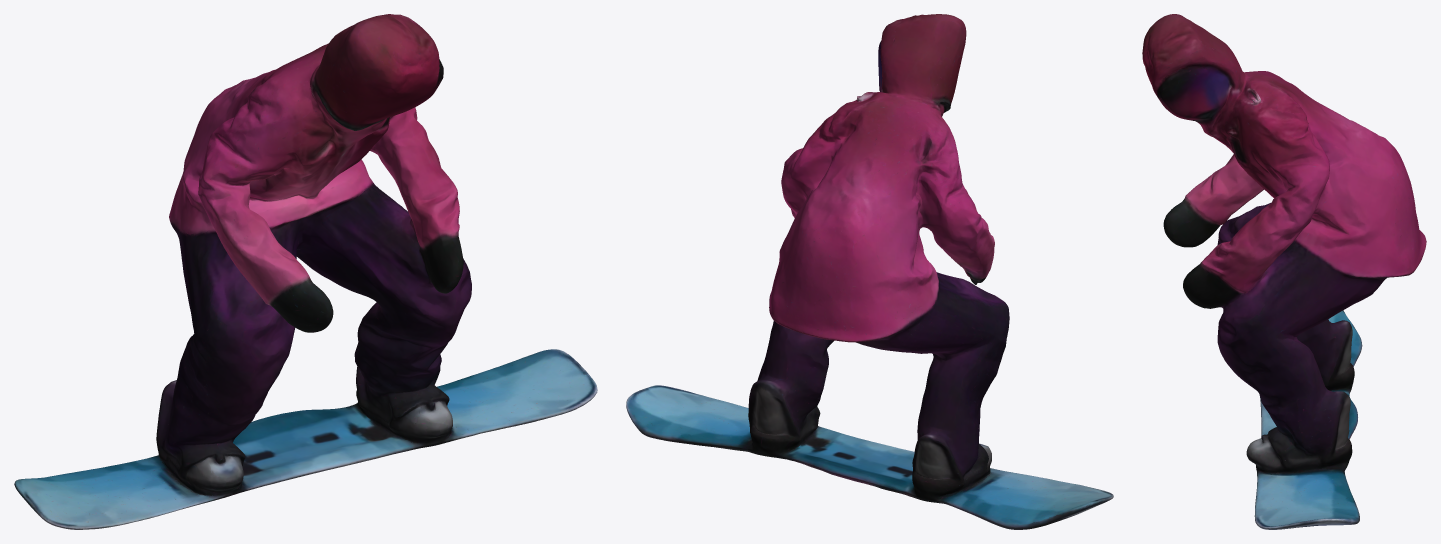
File: rider-style.glb
The picture shows the model from 3 angles, left to right: view 1: azimuth 30°, elevation 25°; view 2: azimuth 150°, elevation 25°; view 3: azimuth 270°, elevation 25°; orthographic projection. The views are drawn at different scales.
Parts seen in each view (by area): view 1: world; view 2: world; view 3: world.
Boxes of the visible parts, x1,y1,x2,y2 form: world: (14,14,597,529); world: (626,14,1113,529); world: (1142,14,1426,529).
Bounding box in the file's own units: 1 × 0.8542 × 0.5335.
1 material, 1 textured.
